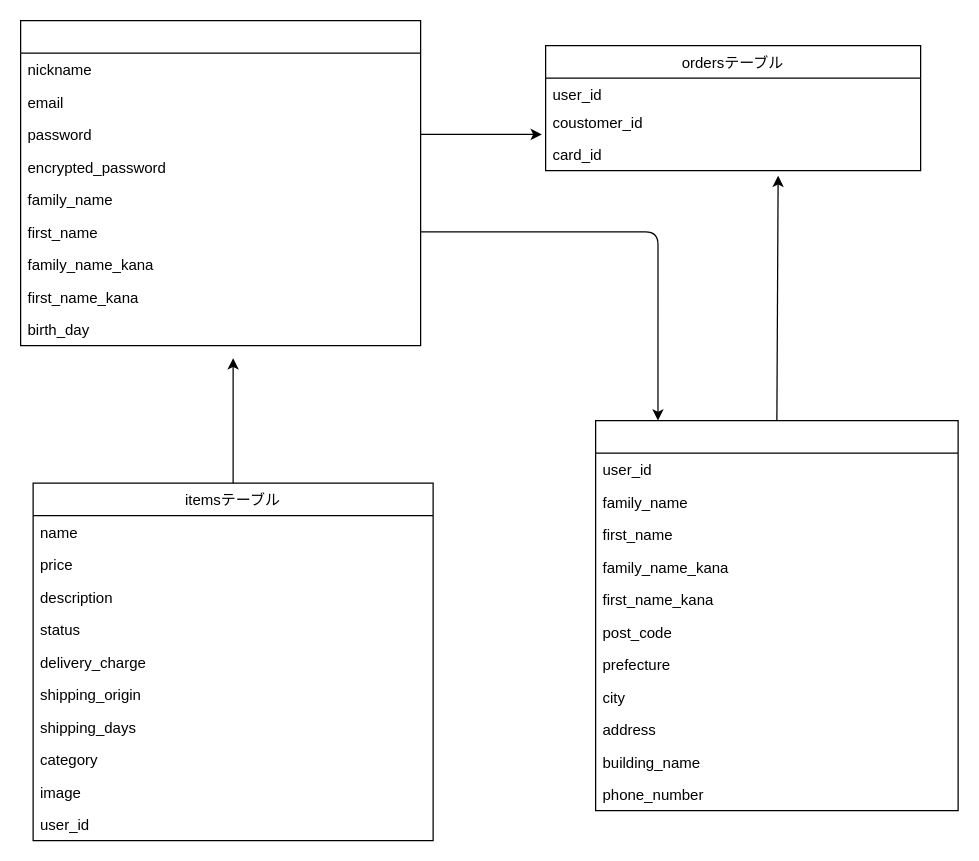
Image size: 979x861. Some labels were removed from this diagram. Here are the shapes that lost their labels. From the top down, the box of each, then its label:
(19, 19, 421, 346): usersテーブル
(594, 419, 958, 811): destinationsテーブル
